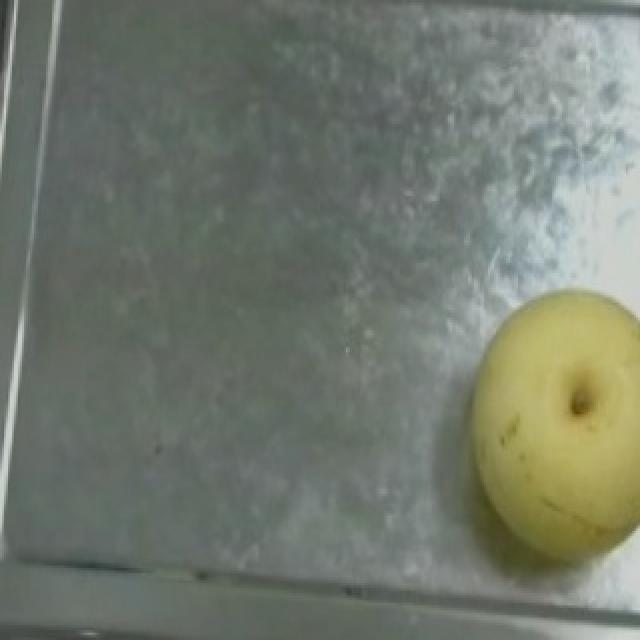Fruit: (452, 273, 640, 573)
